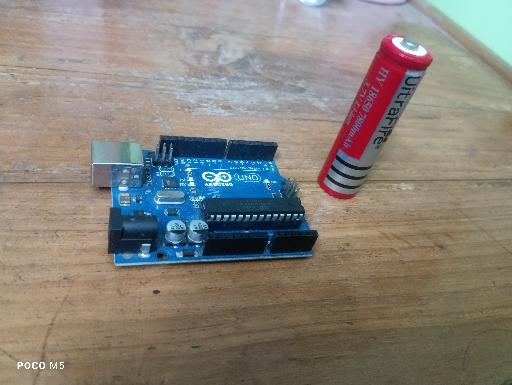Arduino: (90, 133, 319, 267)
Battery: (318, 34, 433, 200)
